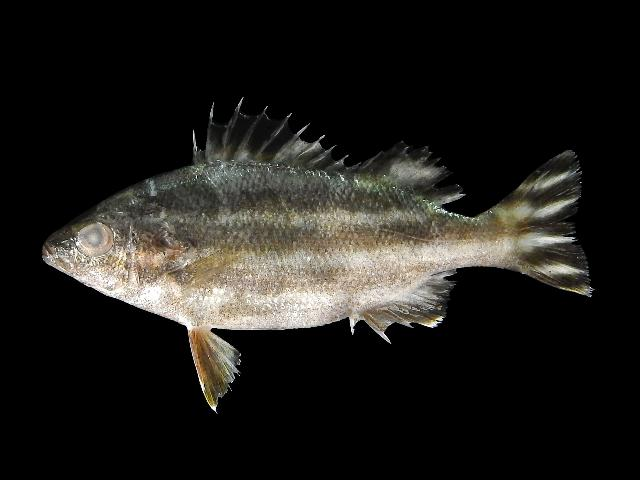Mulut: (32, 222, 78, 286)
Sirip Anal: (348, 260, 464, 351)
Sirip Dada: (172, 242, 252, 300)
Sirip Ekor: (508, 140, 602, 308)
Sirip Perut: (184, 322, 248, 420)
Sirip Punggung: (183, 87, 472, 211)
